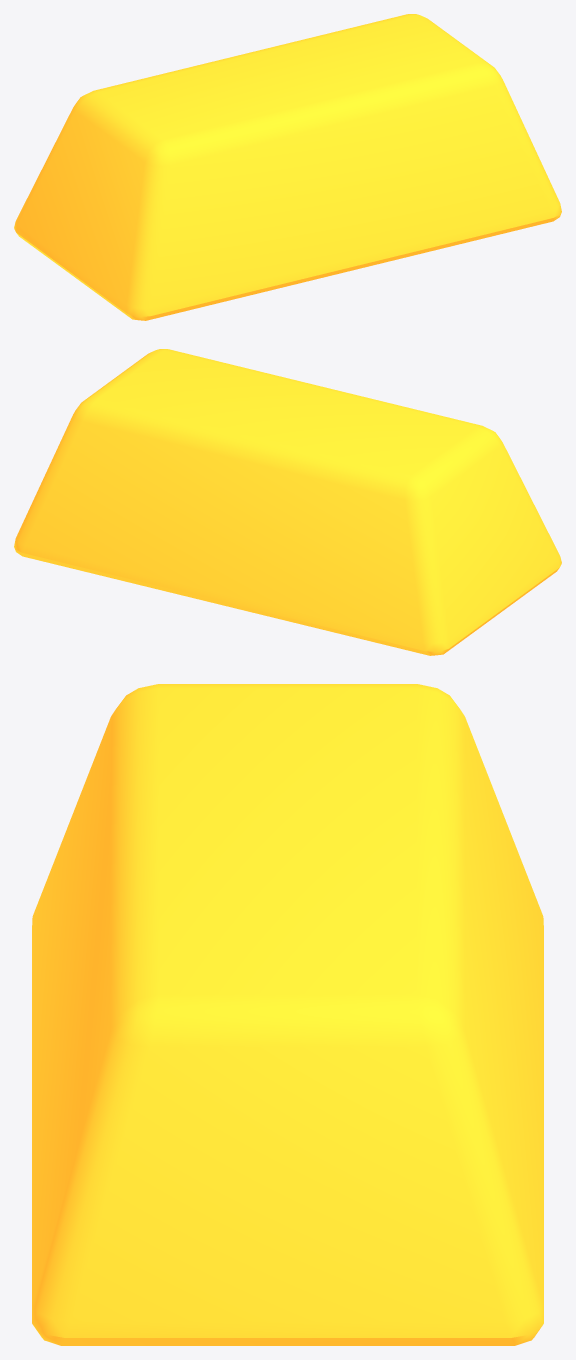
The model's file is OreIngot.fbx.
3 renders of one model, top to bottom at view 1: azimuth 30°, elevation 25°; view 2: azimuth 150°, elevation 25°; view 3: azimuth 270°, elevation 25°, orthographic. The views are drawn at different scales.
Visible parts, largest first — view 1: Ore; view 2: Ore; view 3: Ore.
Part boxes in pixels (left/top/right/bottom): Ore: left=14, top=14, right=561, bottom=320; Ore: left=14, top=349, right=561, bottom=655; Ore: left=32, top=684, right=543, bottom=1345.
Bounding box in the file's own units: 2.25 × 0.75 × 1.15.
